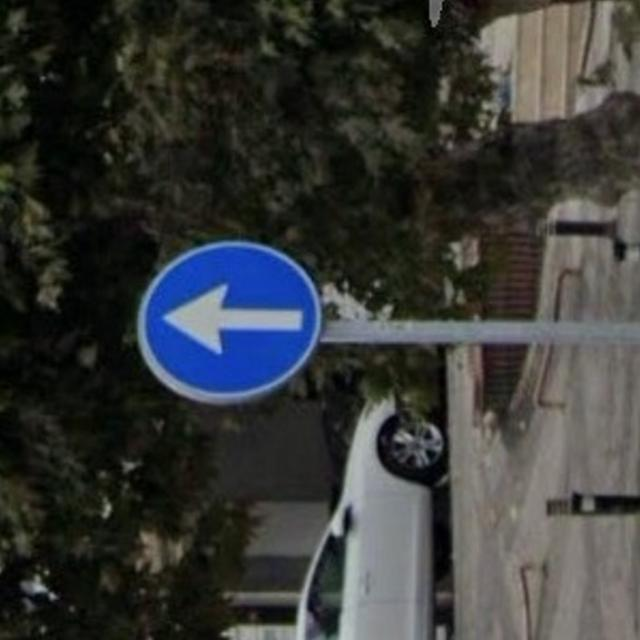Turn Left: (137, 236, 316, 401)
